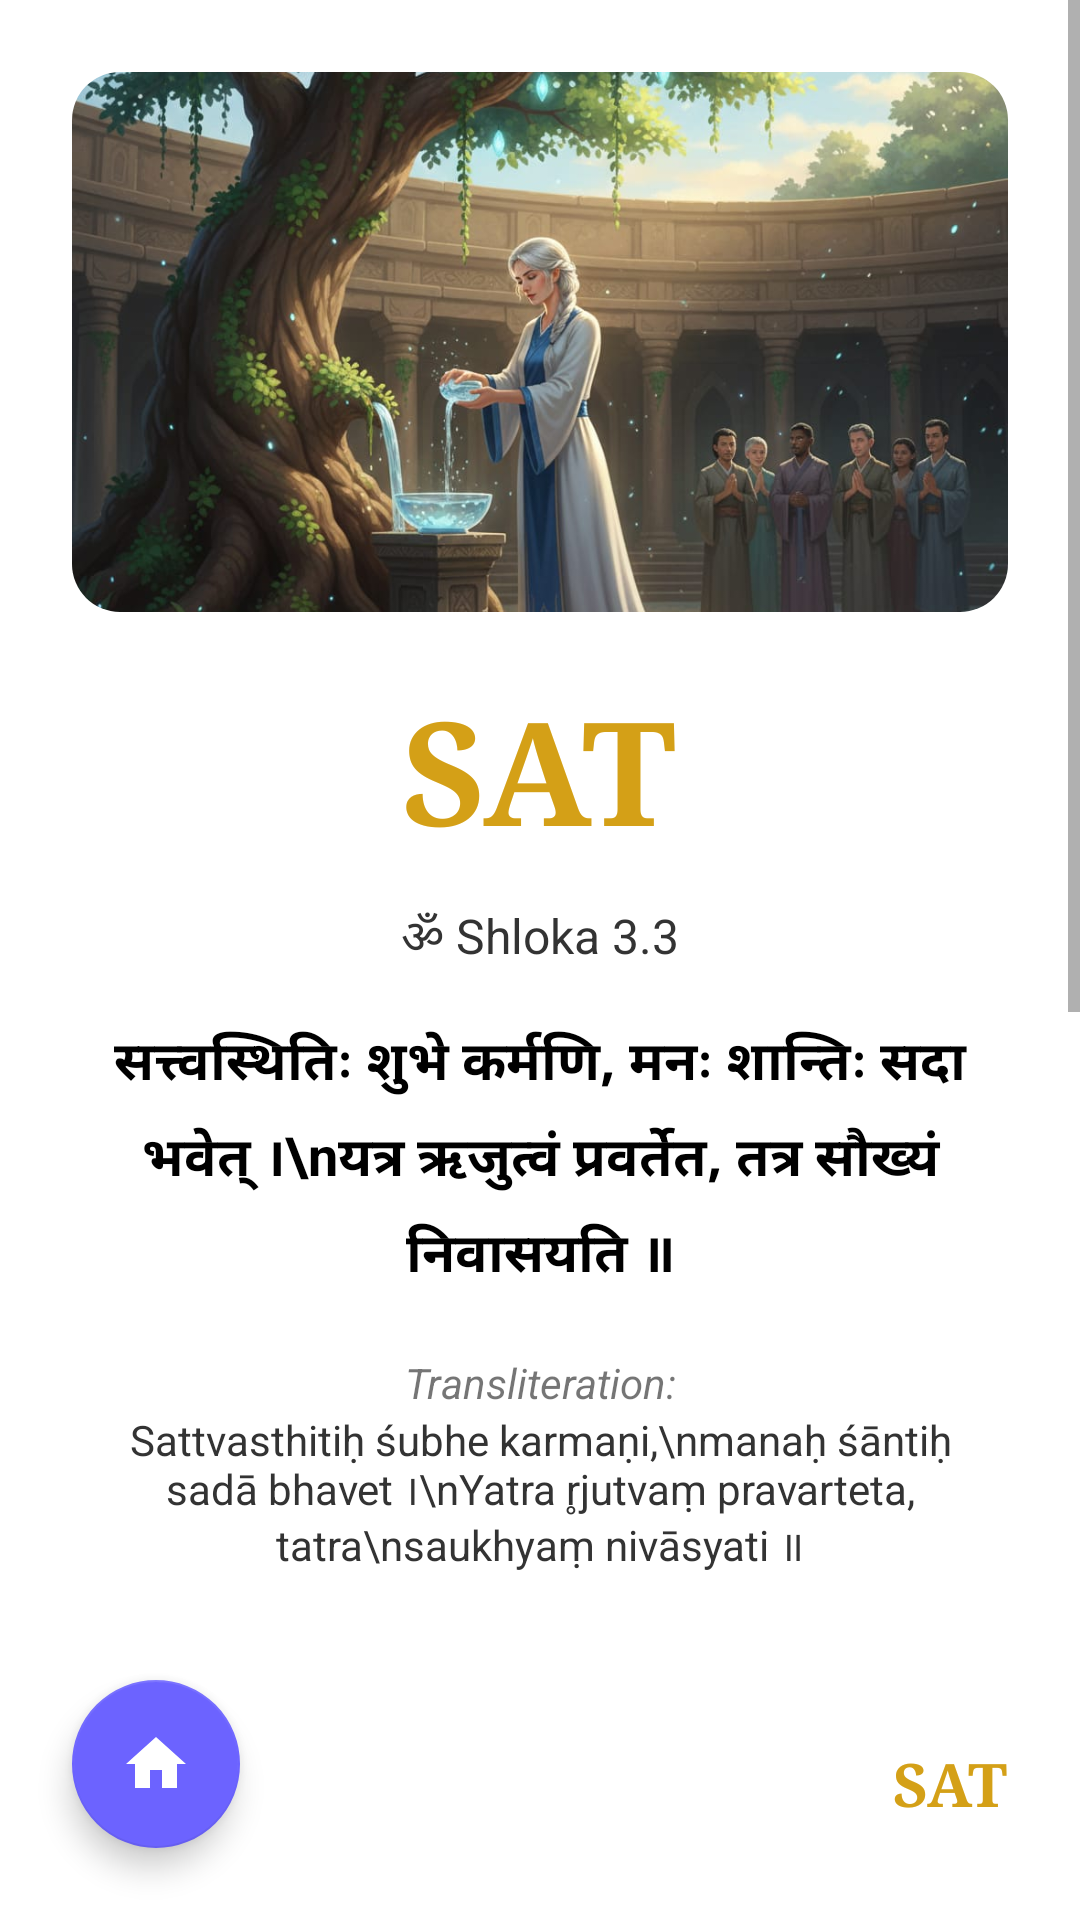

Icons on this 1080 x 1920 Android screen, each with the point to tap as (x=x, y=y):
home: (x=156, y=1764)
